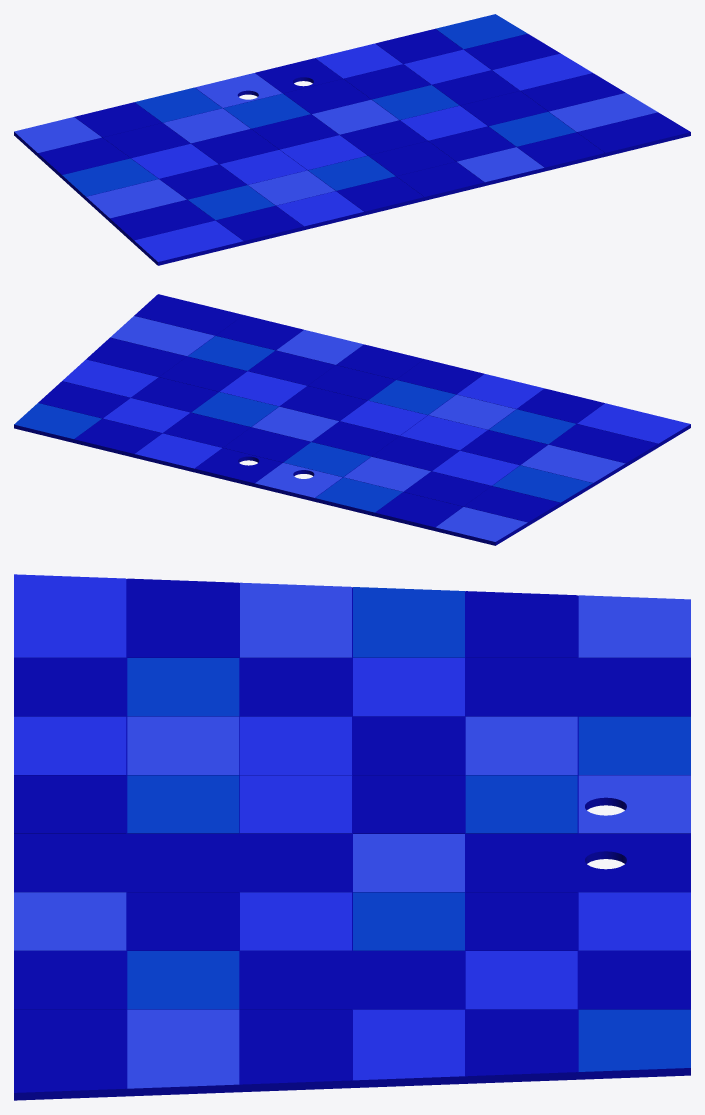
The model's file is solar_panel.dae.
3 views of the same model, one above another, from view 1: azimuth 30°, elevation 25°; view 2: azimuth 150°, elevation 25°; view 3: azimuth 270°, elevation 25° (orthographic). The views are drawn at different scales.
Parts seen in each view (by area): view 1: _3DGeom-224, _3DGeom-223, _3DGeom-222, _3DGeom-221; view 2: _3DGeom-224, _3DGeom-223, _3DGeom-222, _3DGeom-221; view 3: _3DGeom-224, _3DGeom-223, _3DGeom-222, _3DGeom-221.
Part boxes in pixels (x1,y1,x2,y2): _3DGeom-224: (14,28,690,265); _3DGeom-223: (131,43,592,261); _3DGeom-222: (14,73,657,218); _3DGeom-221: (62,14,575,219); _3DGeom-224: (14,294,690,545); _3DGeom-223: (62,359,690,485); _3DGeom-222: (110,316,625,541); _3DGeom-221: (14,336,592,512); _3DGeom-224: (14,578,690,1100); _3DGeom-223: (14,574,690,1080); _3DGeom-222: (14,582,690,1088); _3DGeom-221: (127,587,690,1071).
Size of the model in its own units: 1.45 by 0.8 by 0.01.
